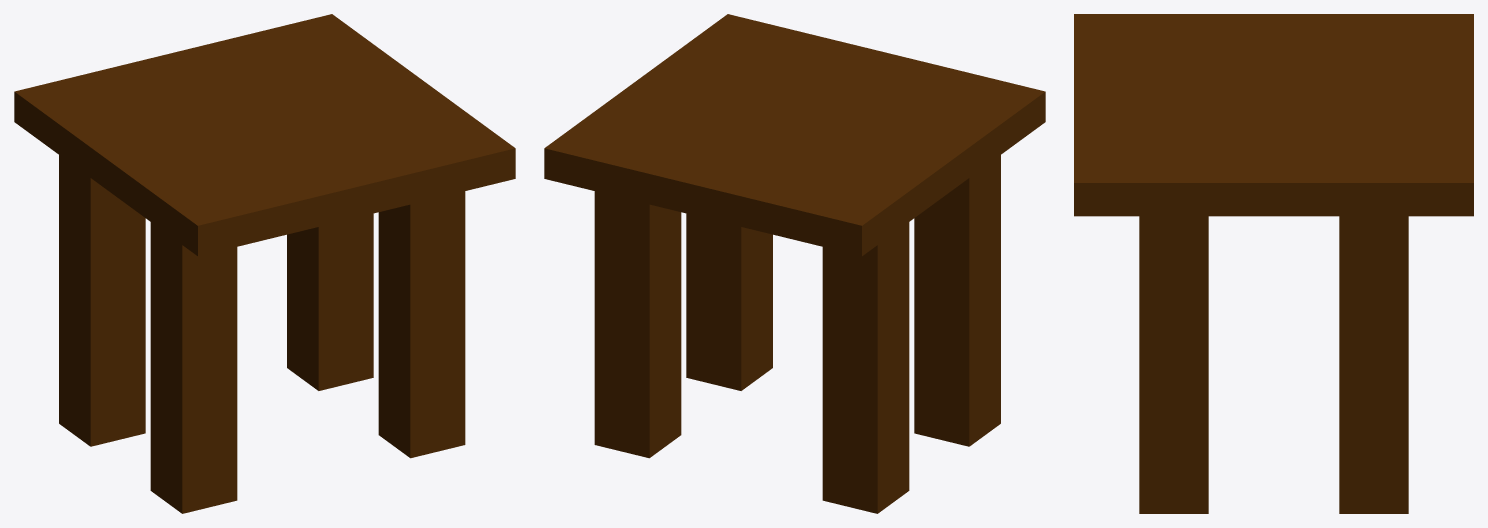
Rendered from _aburetka.fbx.
3 renders of one model, left to right at view 1: azimuth 30°, elevation 25°; view 2: azimuth 150°, elevation 25°; view 3: azimuth 270°, elevation 25°, orthographic. The views are drawn at different scales.
Visible parts, largest first — view 1: TABURETKA; view 2: TABURETKA; view 3: TABURETKA.
Part boxes in pixels (bbox=[...]): TABURETKA: bbox=[14, 14, 515, 513]; TABURETKA: bbox=[544, 14, 1045, 513]; TABURETKA: bbox=[1074, 14, 1473, 513].
Bounding box in the file's own units: 597 × 563 × 597.
